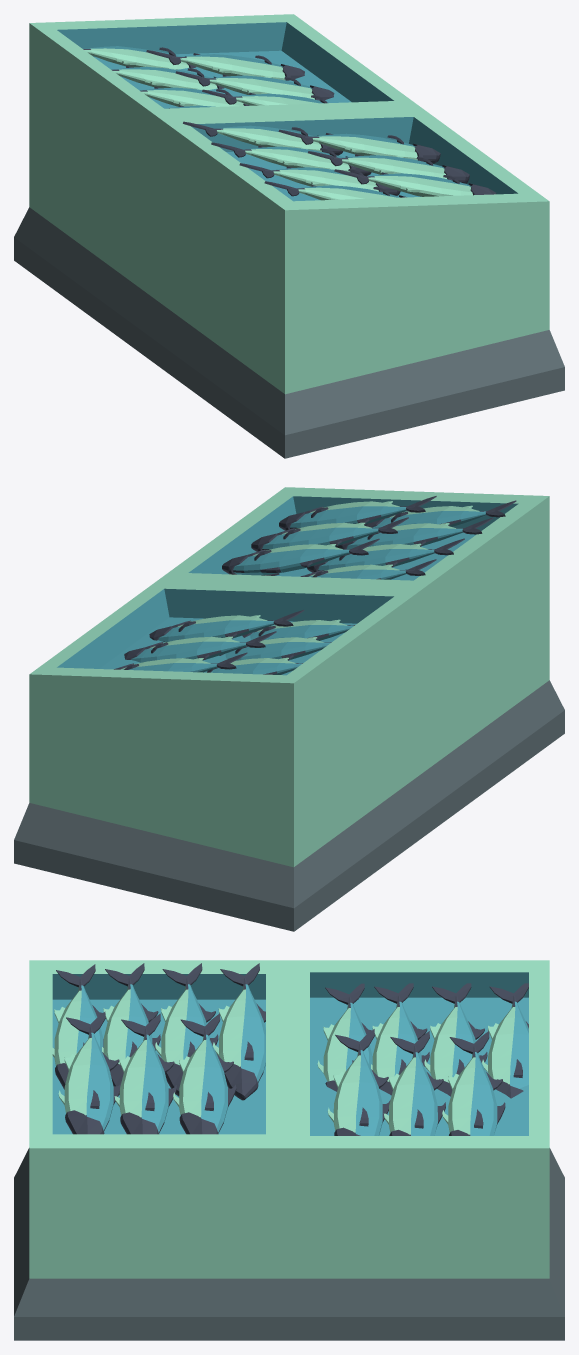
Rendered from frezeerWithFishes.fbx.
3 views of the same model, one above another, from view 1: azimuth 30°, elevation 25°; view 2: azimuth 150°, elevation 25°; view 3: azimuth 270°, elevation 25° (orthographic).
Parts seen in each view (by area): view 1: Kostka, Fish.006, Fish.007, Fish.004, Fish.005, Fish.008, Fish.003, Fish, Fish.002, Fish.013, Fish.010, Fish.011 (+2 smaller); view 2: Kostka, Fish.006, Fish.004, Fish.005, Fish.009, Fish.008, Fish, Fish.002, Fish.001, Fish.011, Fish.012, Fish.003 (+2 smaller); view 3: Kostka, Fish.004, Fish.006, Fish.005, Fish.003, Fish.009, Fish.007, Fish.008, Fish.010, Fish, Fish.013, Fish.002 (+3 smaller).
Part boxes in pixels (x1=…): Kostka: x1=14, y1=14, x2=564, y2=458; Fish.006: x1=278, y1=129, x2=440, y2=163; Fish.007: x1=146, y1=50, x2=304, y2=80; Fish.004: x1=334, y1=169, x2=496, y2=196; Fish.005: x1=308, y1=151, x2=469, y2=183; Fish.008: x1=175, y1=71, x2=334, y2=100; Fish.003: x1=183, y1=121, x2=343, y2=155; Fish: x1=211, y1=142, x2=371, y2=176; Fish.002: x1=239, y1=163, x2=400, y2=195; Fish.013: x1=111, y1=65, x2=224, y2=90; Fish.010: x1=83, y1=46, x2=195, y2=69; Fish.011: x1=140, y1=86, x2=249, y2=106; Kostka: x1=14, y1=487, x2=564, y2=931; Fish.006: x1=222, y1=538, x2=379, y2=575; Fish.004: x1=279, y1=496, x2=436, y2=530; Fish.005: x1=251, y1=517, x2=408, y2=551; Fish.009: x1=149, y1=610, x2=304, y2=642; Fish.008: x1=124, y1=631, x2=276, y2=662; Fish: x1=307, y1=538, x2=464, y2=572; Fish.002: x1=335, y1=517, x2=493, y2=549; Fish.001: x1=364, y1=500, x2=516, y2=527; Fish.011: x1=219, y1=637, x2=331, y2=660; Fish.012: x1=242, y1=619, x2=354, y2=640; Fish.003: x1=300, y1=559, x2=436, y2=579; Kostka: x1=14, y1=960, x2=564, y2=1340; Fish.004: x1=58, y1=1011, x2=121, y2=1134; Fish.006: x1=173, y1=1013, x2=236, y2=1134; Fish.005: x1=114, y1=1013, x2=176, y2=1134; Fish.003: x1=213, y1=963, x2=265, y2=1100; Fish.009: x1=327, y1=1029, x2=390, y2=1135; Fish.007: x1=442, y1=1031, x2=505, y2=1135; Fish.008: x1=384, y1=1031, x2=445, y2=1135; Fish.010: x1=482, y1=983, x2=528, y2=1098; Fish: x1=155, y1=963, x2=218, y2=1096; Fish.013: x1=424, y1=983, x2=487, y2=1096; Fish.002: x1=102, y1=963, x2=160, y2=1094.
Size of the model in its own units: 1711 by 1425 by 2866.
